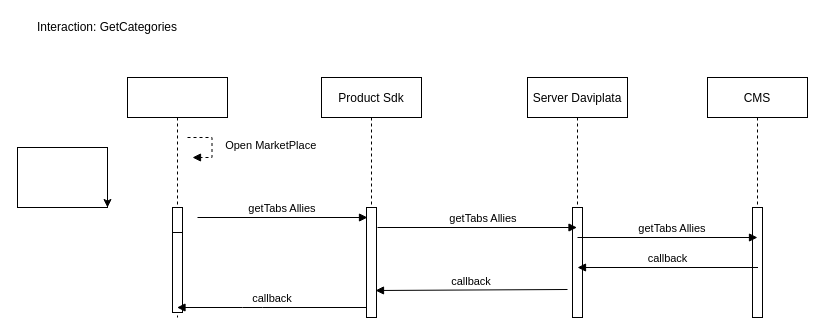
The diagram is 825 pixels wide and 335 high, and some of its shapes have lost their labels. Here are the shapes that lost their labels. From the top down, the box of each, then its label:
(16, 146, 108, 208): Bring information of allies
(126, 76, 228, 318): Daviplata User
